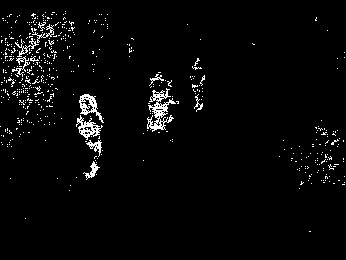person: (74, 92, 107, 182)
